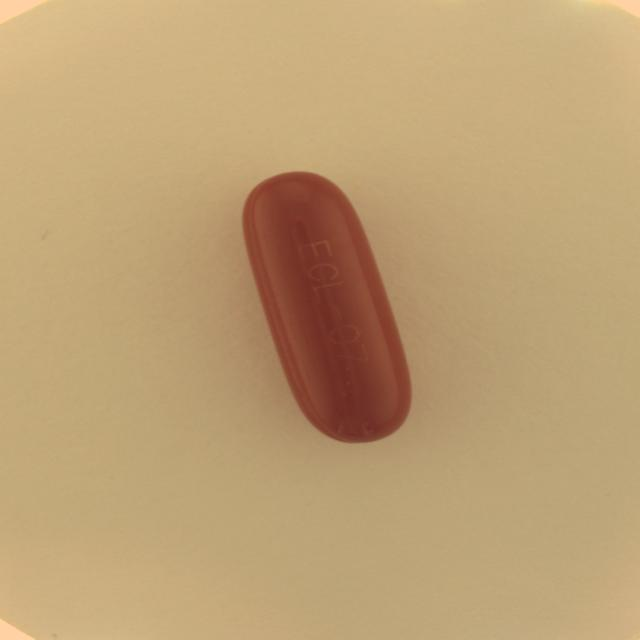Oval: (238, 165, 417, 449)
